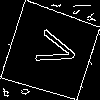V: (25, 26, 79, 72)
